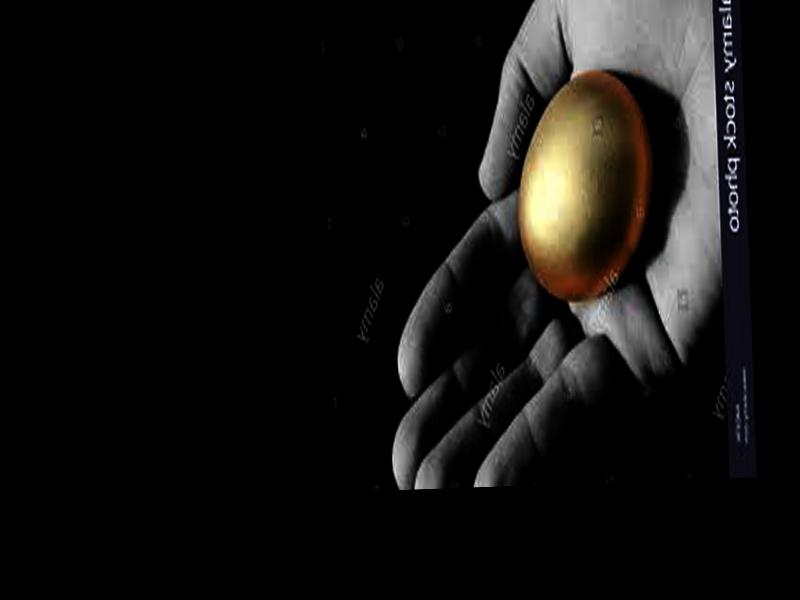Eggs: (513, 72, 655, 304)
